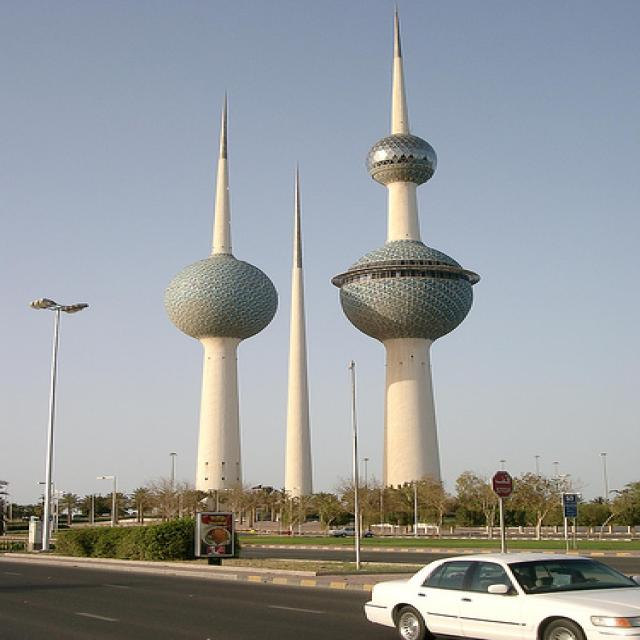car: (365, 553, 640, 640)
